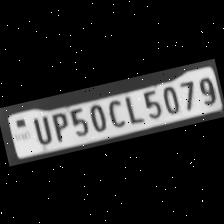0: (157, 82, 182, 116), (85, 99, 108, 132)
5: (64, 104, 90, 138), (138, 86, 162, 120)
7: (175, 76, 199, 111)
9: (193, 72, 218, 106)
C: (102, 95, 125, 128)
L: (119, 90, 144, 124)
P: (46, 108, 71, 142)
U: (27, 112, 53, 146)
